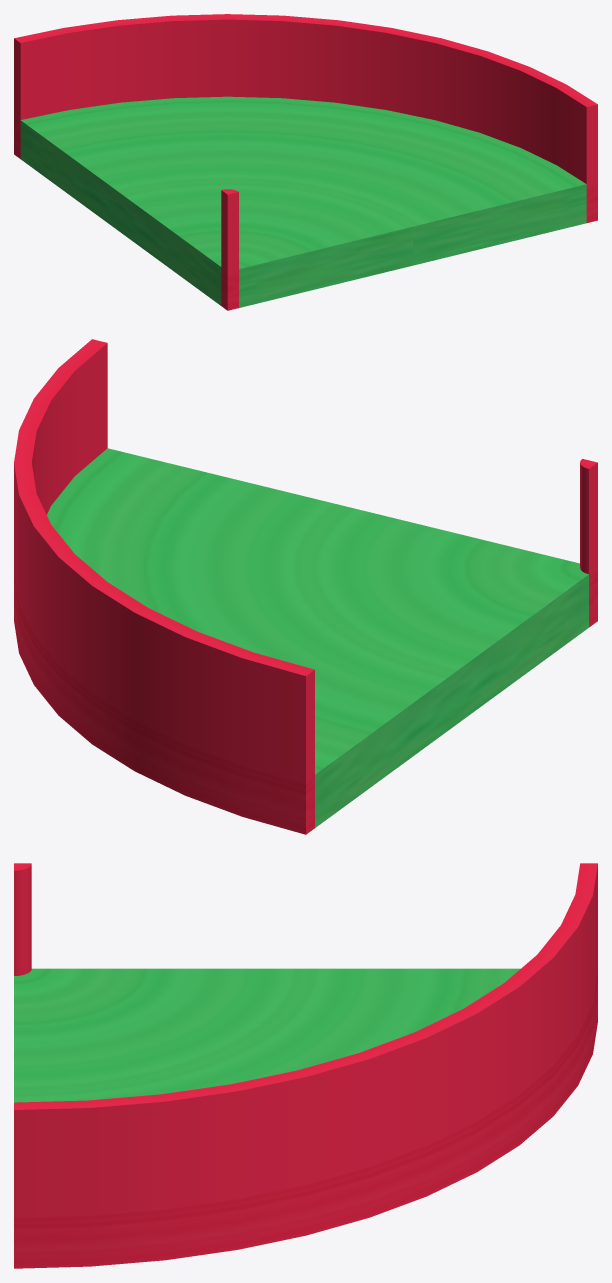
Rendered from Round_lvl1.fbx.
3 renders of one model, top to bottom at view 1: azimuth 30°, elevation 25°; view 2: azimuth 150°, elevation 25°; view 3: azimuth 270°, elevation 25°, orthographic. The views are drawn at different scales.
Parts seen in each view (by area): view 1: Round_lvl1, Fence; view 2: Round_lvl1, Fence; view 3: Fence, Round_lvl1.
Part boxes in pixels (x1,y1,x2,y2): Round_lvl1: (20, 96, 586, 307); Fence: (14, 14, 597, 310); Round_lvl1: (47, 448, 588, 827); Fence: (14, 339, 597, 834); Fence: (14, 863, 597, 1268); Round_lvl1: (14, 968, 520, 1102).
Size of the model in its own units: 100 by 30.07 by 100.
